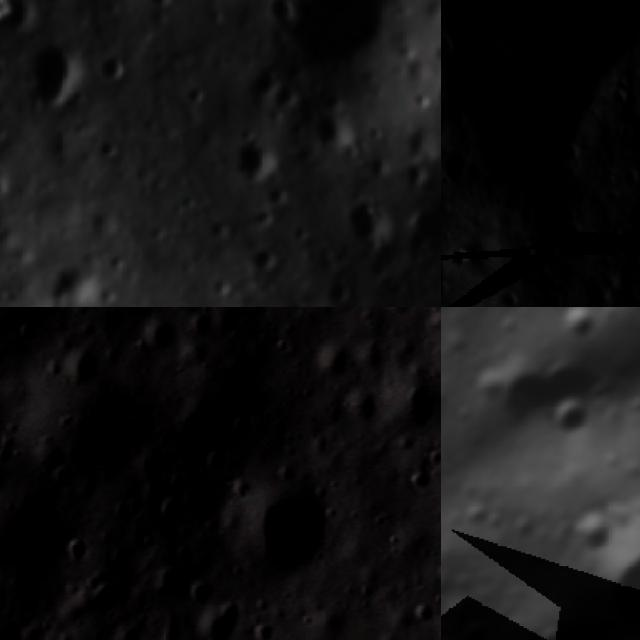crater: (441, 0, 640, 223), (230, 474, 344, 591), (577, 491, 640, 640), (275, 0, 404, 72), (487, 358, 567, 440), (27, 35, 84, 119), (137, 564, 212, 618), (380, 379, 441, 445), (537, 393, 595, 454), (341, 186, 395, 251), (59, 340, 110, 406), (228, 131, 283, 185), (179, 599, 248, 640), (45, 259, 100, 306), (568, 511, 618, 562), (142, 312, 185, 366), (554, 307, 611, 347), (311, 340, 355, 388), (308, 106, 358, 147), (155, 489, 194, 531), (520, 612, 576, 640), (200, 441, 237, 482), (454, 610, 500, 640), (182, 309, 220, 345), (62, 538, 94, 578), (99, 47, 131, 86), (407, 600, 439, 634), (320, 274, 354, 303), (268, 0, 302, 27), (13, 320, 38, 350), (240, 307, 276, 324), (142, 0, 176, 14)
